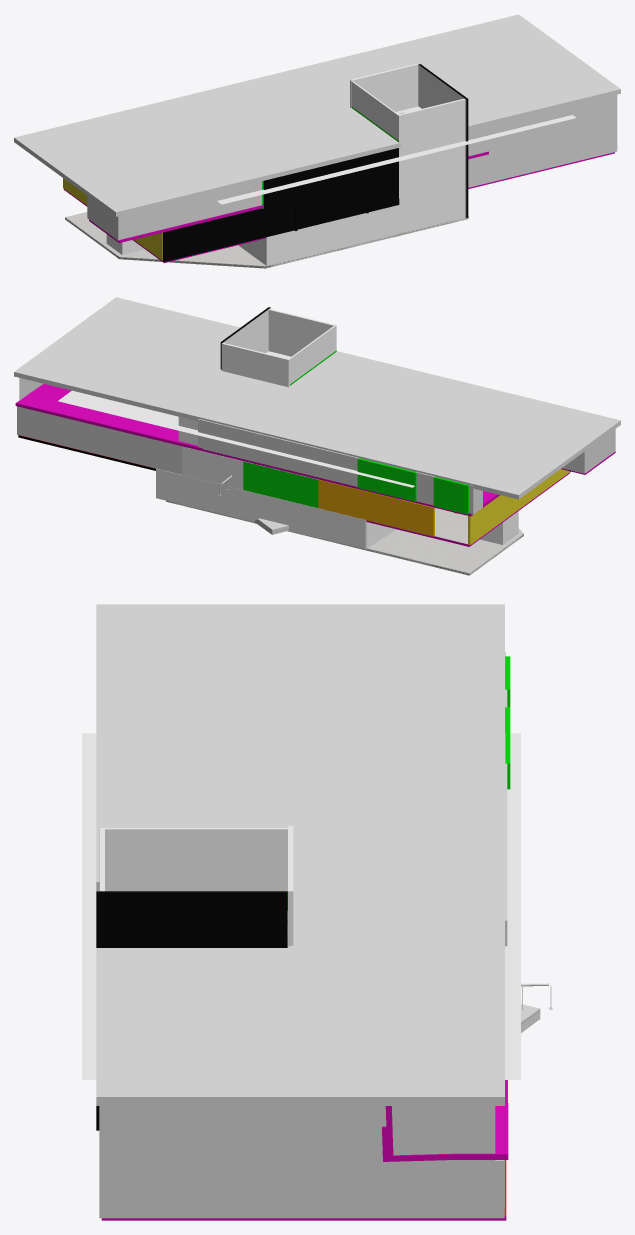
Rendered from bocanord-0.8.glb.
3 views of the same model, one above another, from view 1: azimuth 30°, elevation 25°; view 2: azimuth 150°, elevation 25°; view 3: azimuth 270°, elevation 25° (orthographic). The views are drawn at different scales.
Parts seen in each view (by area): view 1: ceiling.001, south-wall-patio, back-wall, wall-concert-hall, default-wall-2ndfloor.001, floor, south-wall-glass, WhatsApp Image 2021-10-09 at 08.57.33, east-wall, bar-wall, default-wall.005, floor-2nd (+2 smaller); view 2: ceiling.001, north-wall, wall-concert-hall, default-wall-2ndfloor.009, default-wall.001, floor-2nd, floor, recepcio-wall, WhatsApp Image 2021-10-09 at 08.57.33, south-wall-glass, south-wall-patio, floor 1er piso (+10 smaller); view 3: ceiling.001, wall-concert-hall, bar-wall, east-wall, WhatsApp Image 2021-10-09 at 08.57.33, floor-2nd, floor 1er piso.
Boxes of the visible parts, x1=… form: ceiling.001: x1=14, y1=14, x2=620, y2=216; south-wall-patio: x1=238, y1=98, x2=465, y2=265; back-wall: x1=163, y1=148, x2=399, y2=262; wall-concert-hall: x1=468, y1=94, x2=617, y2=187; default-wall-2ndfloor.001: x1=87, y1=181, x2=261, y2=240; floor: x1=65, y1=212, x2=468, y2=268; south-wall-glass: x1=350, y1=63, x2=418, y2=111; WhatsApp Image 2021-10-09 at 08.57.33: x1=217, y1=106, x2=576, y2=204; east-wall: x1=418, y1=64, x2=468, y2=217; bar-wall: x1=351, y1=81, x2=400, y2=198; default-wall.005: x1=63, y1=178, x2=162, y2=260; floor-2nd: x1=89, y1=151, x2=488, y2=242; ceiling.001: x1=14, y1=297, x2=620, y2=499; north-wall: x1=156, y1=468, x2=366, y2=549; wall-concert-hall: x1=17, y1=378, x2=182, y2=474; default-wall-2ndfloor.009: x1=198, y1=419, x2=358, y2=486; default-wall.001: x1=182, y1=446, x2=318, y2=507; floor-2nd: x1=15, y1=384, x2=615, y2=516; floor: x1=166, y1=500, x2=523, y2=575; recepcio-wall: x1=318, y1=480, x2=434, y2=536; WhatsApp Image 2021-10-09 at 08.57.33: x1=58, y1=351, x2=414, y2=487; south-wall-glass: x1=221, y1=343, x2=289, y2=387; south-wall-patio: x1=268, y1=309, x2=335, y2=356; floor 1er piso: x1=18, y1=435, x2=569, y2=546; ceiling.001: x1=96, y1=604, x2=504, y2=1105; wall-concert-hall: x1=99, y1=1106, x2=504, y2=1218; bar-wall: x1=99, y1=828, x2=287, y2=910; east-wall: x1=96, y1=891, x2=287, y2=1130; WhatsApp Image 2021-10-09 at 08.57.33: x1=82, y1=733, x2=520, y2=1079; floor-2nd: x1=382, y1=1080, x2=508, y2=1161; floor 1er piso: x1=101, y1=1160, x2=506, y2=1220.
Size of the model in its own units: 45.81 by 10.48 by 18.49.
Materials: 12 (4 with a texture image).
